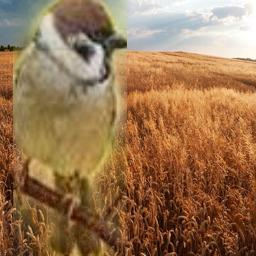Sparrow: (13, 0, 127, 256)
